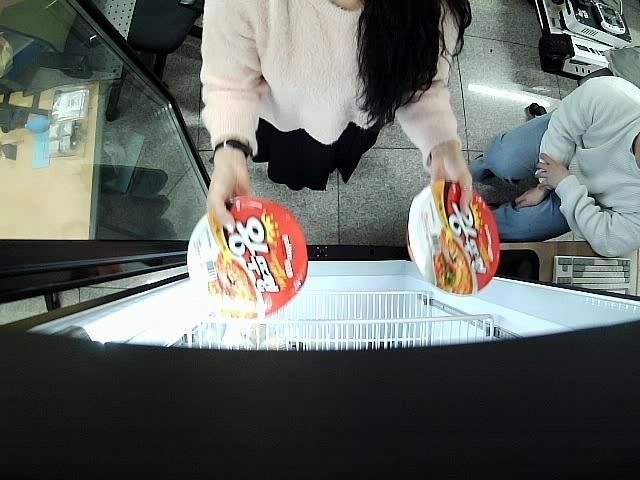10_wangTtukkeong: (186, 199, 308, 318), (405, 179, 499, 297)
